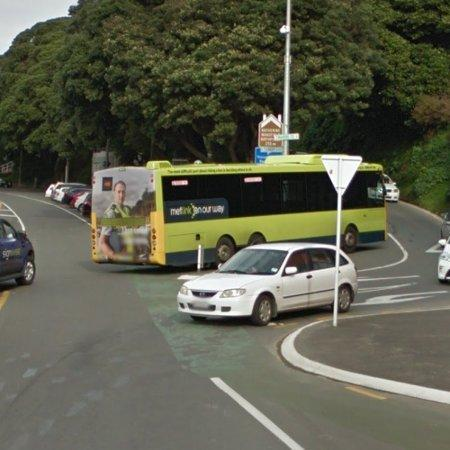buses: (91, 156, 337, 266), (344, 163, 387, 251)
